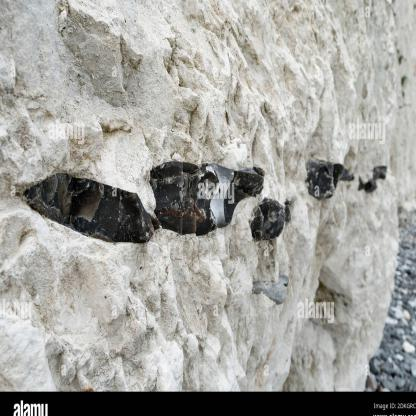Sedimentary_Chalk: (2, 0, 416, 123), (7, 249, 378, 384)
